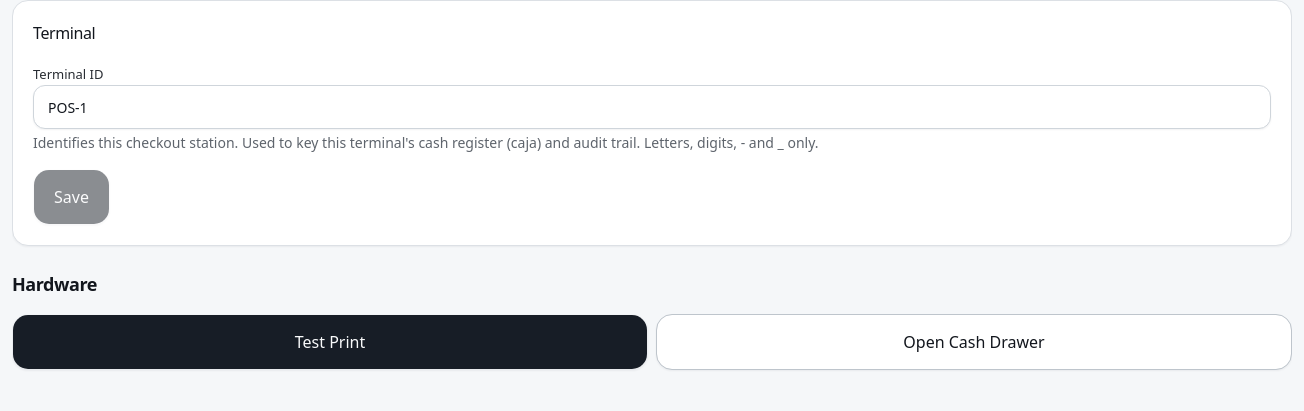
HardwareSettingsTab — Terminal ID field › shows validation error for an invalid id and does not persist
Replace the text in the field with test id "terminal-id-input" with "bad id": (652, 107) [33,85,1271,129]
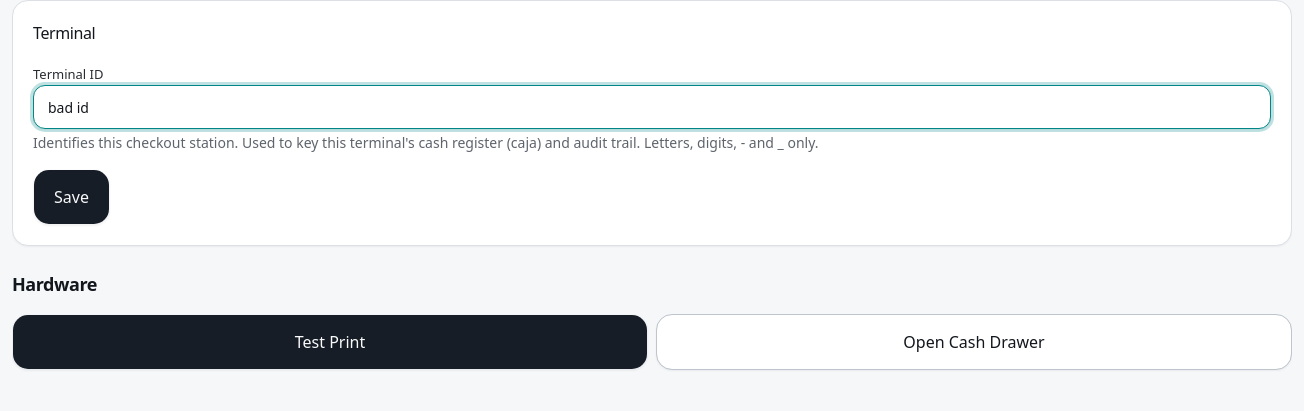
Click the button with test id "terminal-id-save": (71, 197) [33,169,110,225]
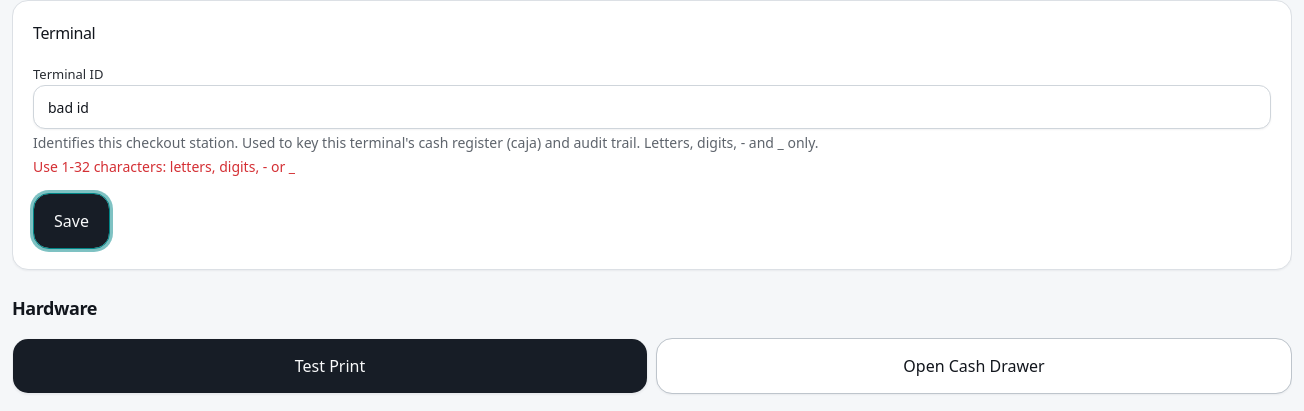
expect the message "Use 1-32 characters: letters, digits, - or _" is shown: met, box [33,157,295,176]
